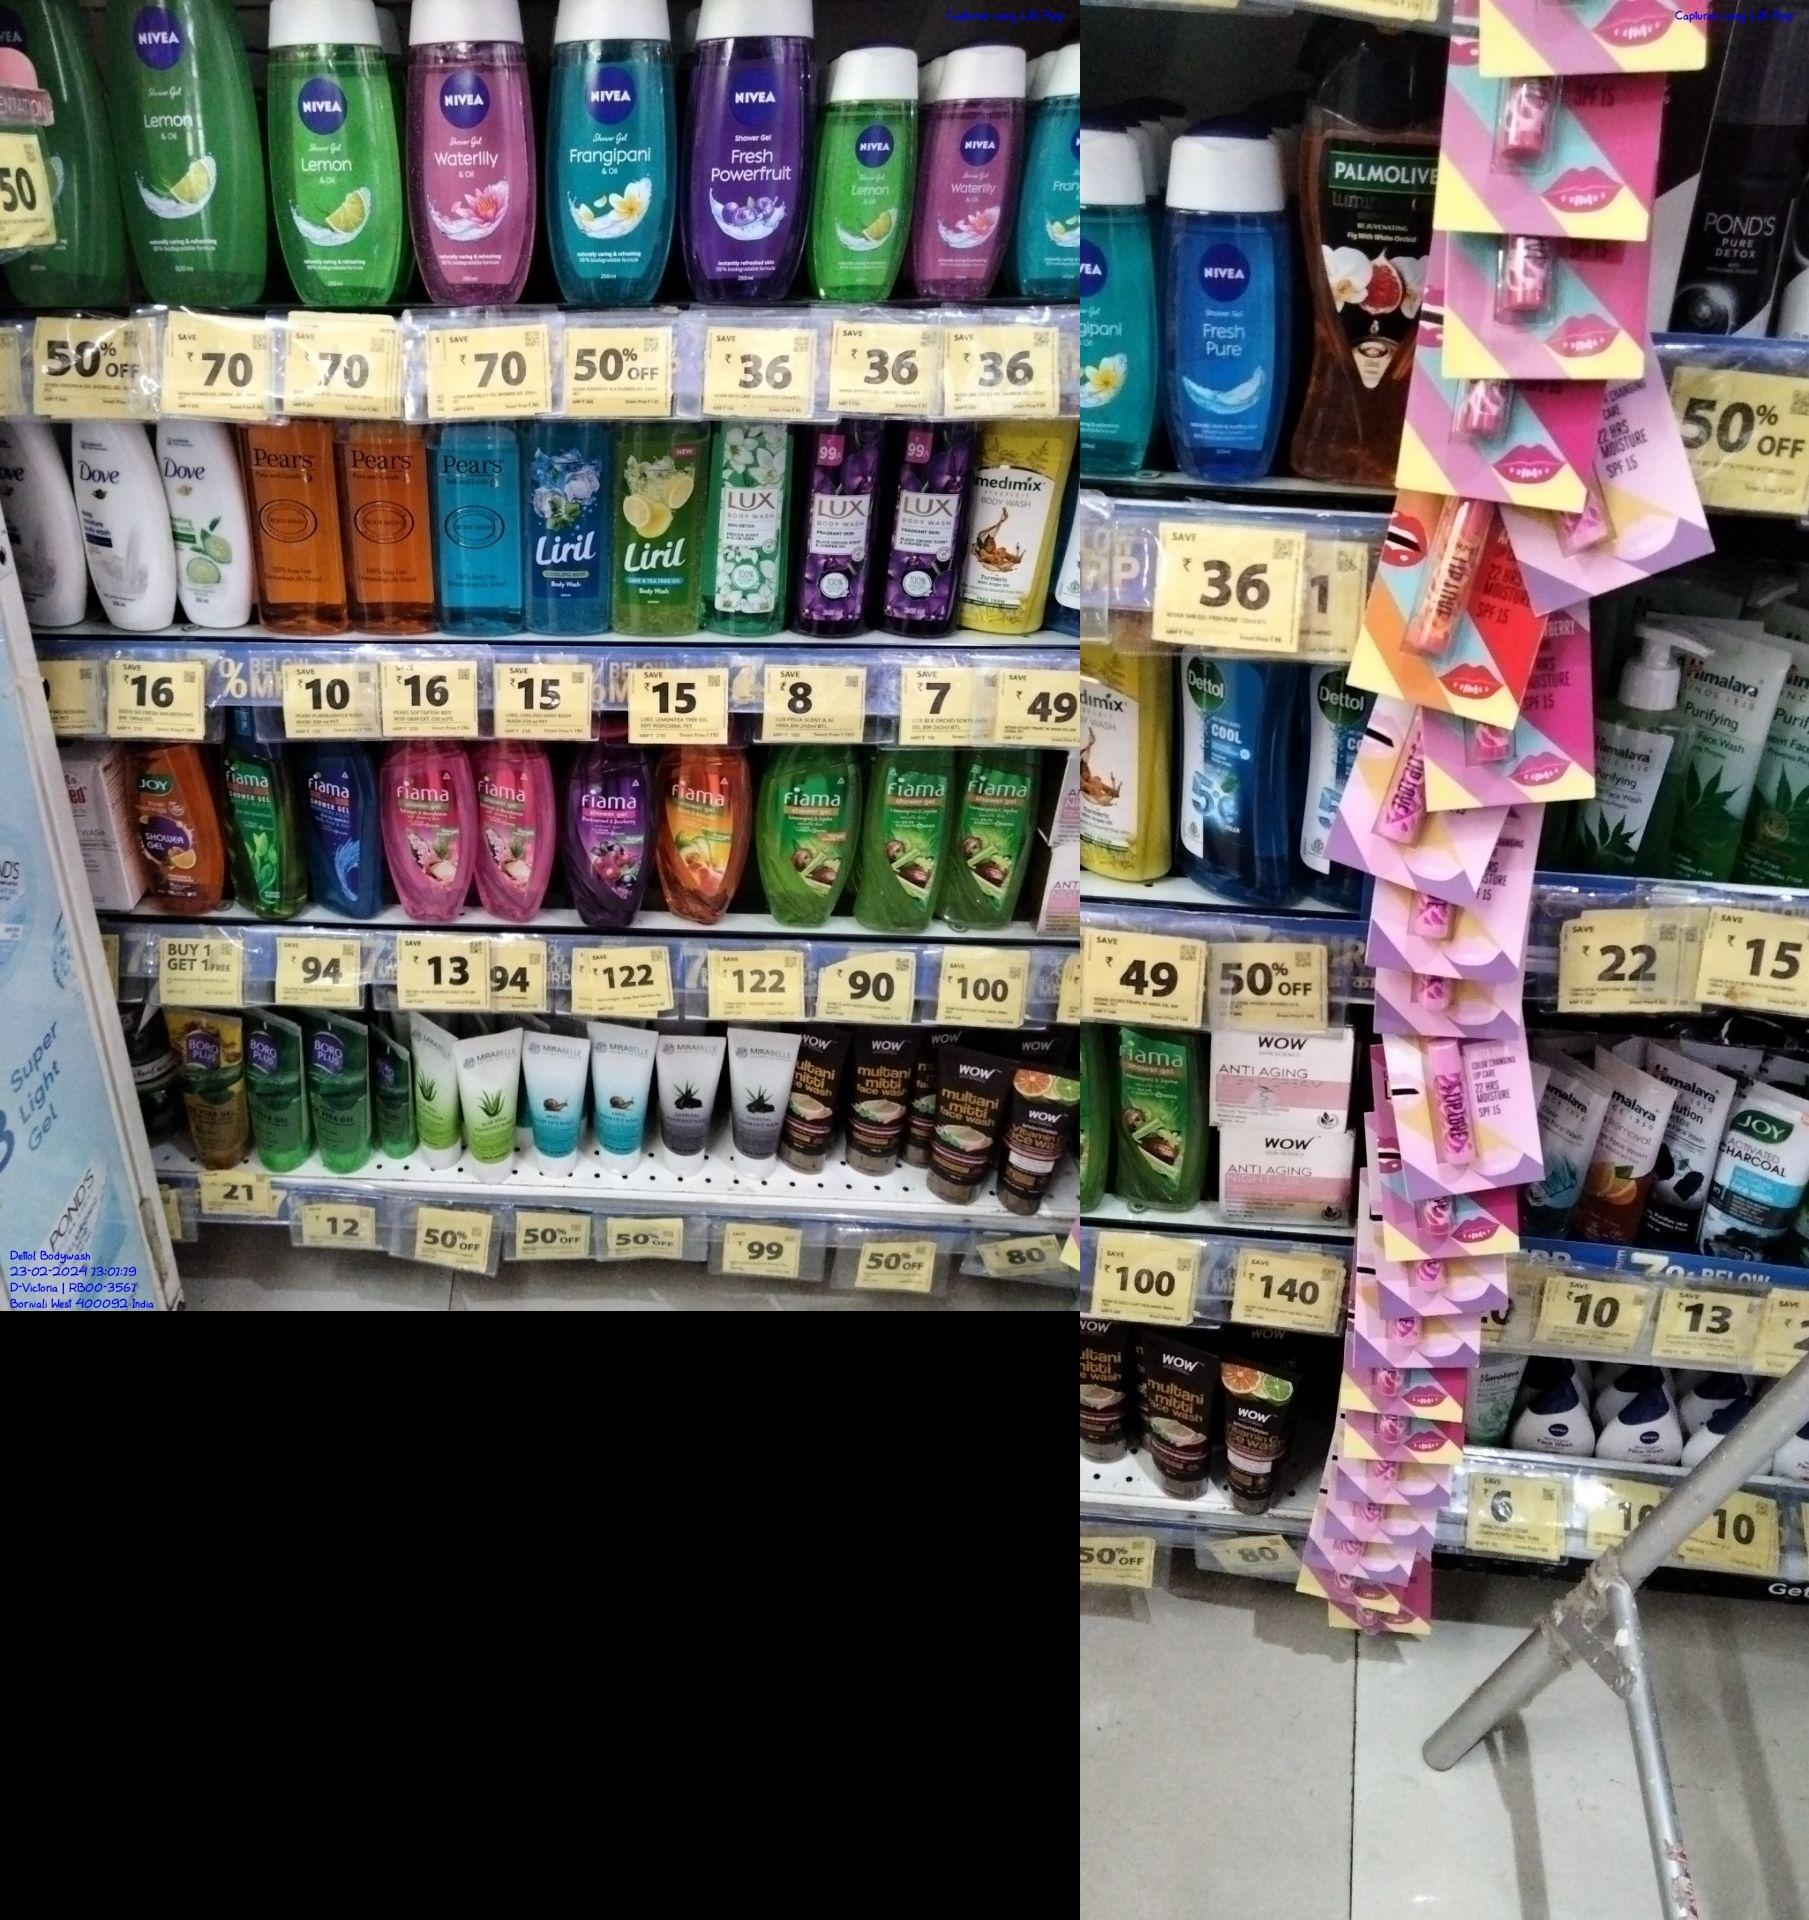Dettol_Bodywash_Cool: (1178, 645, 1277, 896)
Fiama_Shower_Gel_Lemongrass_and_Jojoba_250ML: (760, 738, 848, 929), (1117, 1022, 1199, 1209), (864, 750, 940, 937), (957, 748, 1027, 935)
Fiama_Shower_Gel_Patchouli_and_Macadamia_250ML: (384, 741, 471, 927), (474, 741, 547, 925)
Fiama_Shower_Gel_Peach_and_Avocado_250ML: (658, 738, 734, 923)
Joy_Shower_Gel_Mandarin_and_Lemongrass_250ML: (129, 728, 218, 920)
Liril_Cooling_Mint_Body_Wash_250ML: (524, 415, 607, 636)
Liril_Lime_and_Tea_Tree_Oil_Body_Wash_250ML: (615, 420, 700, 636)
Lux_Black_Orchid_Scent_and_Juniper_Oil_Body_Wash_245ML: (884, 420, 964, 633), (801, 420, 870, 643)
Lux_Body_Wash_Skin_Detox_Freesia_Scent_and_Alove_Vera_245ML: (707, 417, 787, 638)
Nivea_Shower_Gel_Frangipani_and_Oil_250ML: (547, 0, 673, 304), (1078, 136, 1156, 474)
Nivea_Shower_Gel_Fresh_Powerfruit_250ML: (685, 2, 814, 306)
Nivea_Shower_Gel_Lemon_and_Oil_250ML: (119, 0, 260, 306), (264, 0, 400, 301)
Nivea_Shower_Gel_Waterlily_and_Oil_250ML: (406, 0, 537, 308)
Pears_Pure_Glycerin_and_Mint_Extracts_Body_Wash_250ML: (434, 417, 524, 641)
